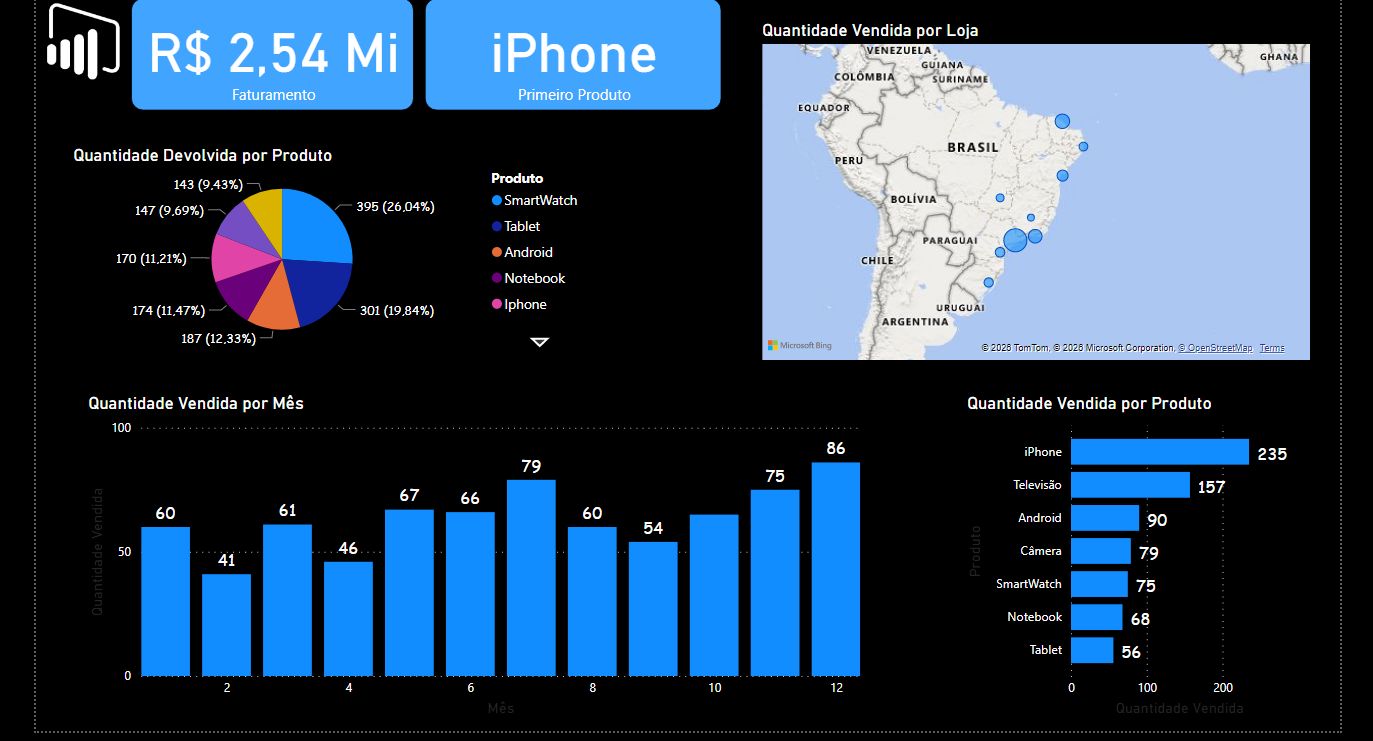

The dashboard page shown, as its layout file describes it:
{"tool":"powerbi","page":{"name":"Página 1","canvas":[1280,720],"ordinal":0},"visuals":[{"type":"clusteredBarChart","fields":{"Y":["Sum(Vendas.Quantidade Vendida)"],"Category":["Vendas.Produto"]},"box":[909.2,387.8,335.4,322.3],"z":1000},{"type":"card","fields":{"Values":["Sum(Vendas.Faturamento)"]},"box":[93,0,277.7,110.1],"z":2000},{"type":"card","fields":{"Values":["Min(Vendas.Produto)"]},"box":[381.2,0,290.8,110.1],"z":3000},{"type":"columnChart","fields":{"Category":["Vendas.Mês"],"Y":["Sum(Vendas.Quantidade Vendida)"]},"box":[47.2,387.8,767.7,322.3],"z":4000},{"type":"pieChart","fields":{"Y":["Sum(Devolucoes.Quantidade Devolvida)"],"Category":["Devolucoes.Produto"]},"box":[31.4,144.1,513.6,207],"z":5000},{"type":"map","fields":{"Category":["Vendas.Loja"],"Size":["Sum(Vendas.Quantidade Vendida)"]},"box":[707.5,21,547.6,339.3],"z":6000},{"type":"image","box":[0,0,93,85.2],"z":6001}]}

Visuals, with their boxes on the page's 1280x720 design canvas (x1, y1, x2, y2). These are canvas units, not pixel positions in the 1373x741 screenshot, which may show the page scaled, cropped or inside an application window:
clusteredBarChart - Sum(Vendas.Quantidade Vendida) x Vendas.Produto: Rect(909, 388, 1245, 710)
card - Sum(Vendas.Faturamento): Rect(93, 0, 371, 110)
card - Min(Vendas.Produto): Rect(381, 0, 672, 110)
columnChart - Vendas.Mês x Sum(Vendas.Quantidade Vendida): Rect(47, 388, 815, 710)
pieChart - Sum(Devolucoes.Quantidade Devolvida) x Devolucoes.Produto: Rect(31, 144, 545, 351)
map - Vendas.Loja x Sum(Vendas.Quantidade Vendida): Rect(708, 21, 1255, 360)
image: Rect(0, 0, 93, 85)
